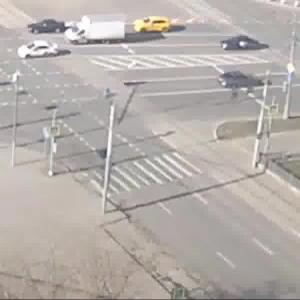car: (72, 18, 129, 47), (17, 42, 83, 62), (218, 36, 267, 55), (132, 14, 171, 36), (222, 70, 258, 92), (28, 16, 69, 34)
